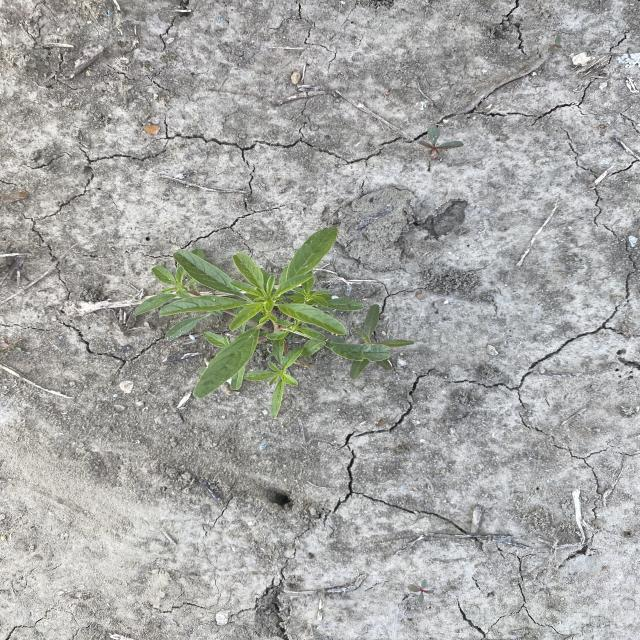Waterhemp: (130, 224, 418, 420)
